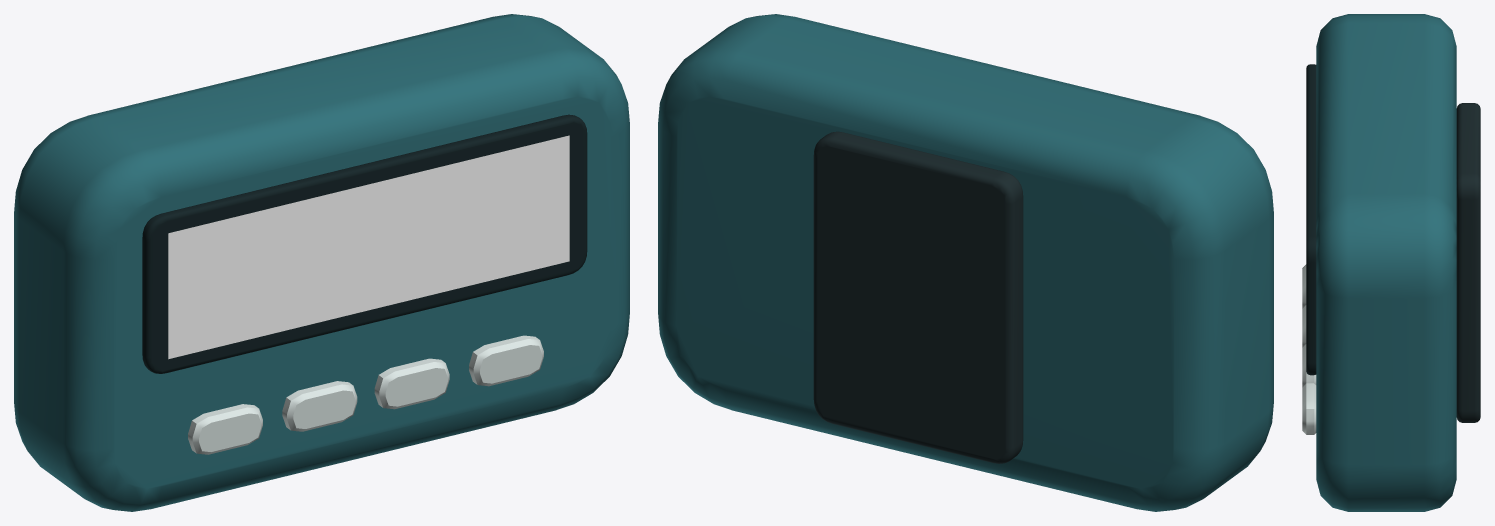
Rendered from pager.glb.
3 renders of one model, left to right at view 1: azimuth 30°, elevation 25°; view 2: azimuth 150°, elevation 25°; view 3: azimuth 270°, elevation 25°, orthographic. The views are drawn at different scales.
Visible parts, largest first — view 1: Body, Screen, Bezel, Btn; view 2: Body, Clip; view 3: Body, Clip, Bezel, Btn.
Part boxes in pixels (x1=…): Body: x1=14, y1=14, x2=629, y2=511; Screen: x1=168, y1=135, x2=569, y2=359; Bezel: x1=142, y1=114, x2=587, y2=373; Btn: x1=188, y1=335, x2=543, y2=454; Body: x1=658, y1=14, x2=1273, y2=511; Clip: x1=813, y1=131, x2=1023, y2=463; Body: x1=1316, y1=14, x2=1456, y2=511; Clip: x1=1456, y1=103, x2=1480, y2=422; Bezel: x1=1306, y1=64, x2=1316, y2=375; Btn: x1=1302, y1=264, x2=1316, y2=434.
Size of the model in its own units: 0.28 by 0.17 by 0.089.
